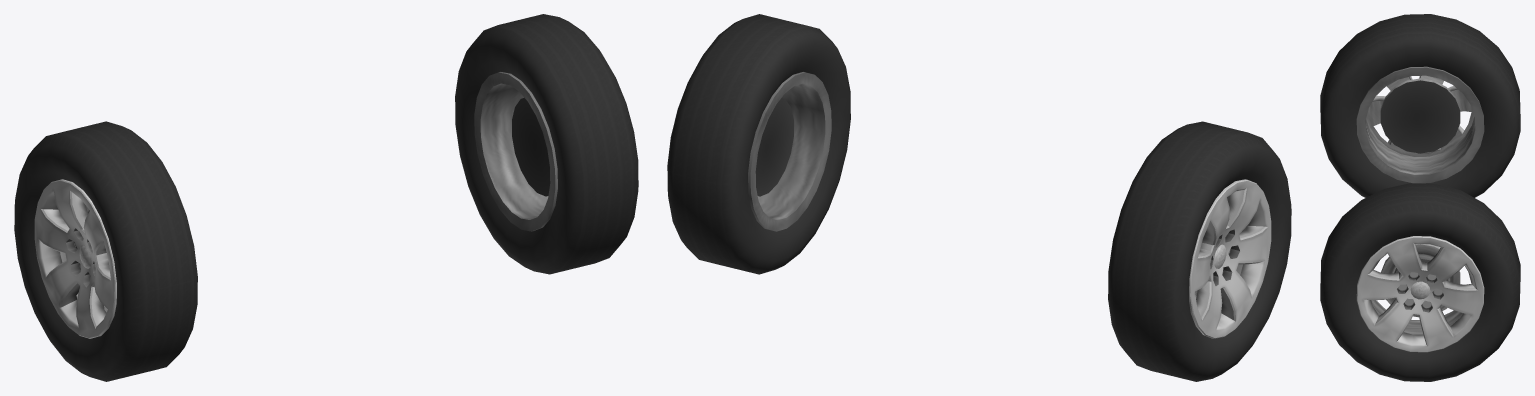
The model's file is Pickup_Llantas.obj.
The picture shows the model from 3 angles, left to right: view 1: azimuth 30°, elevation 25°; view 2: azimuth 150°, elevation 25°; view 3: azimuth 270°, elevation 25°; orthographic projection. The views are drawn at different scales.
Parts seen in each view (by area): view 1: L200-OBJ.006; view 2: L200-OBJ.006; view 3: L200-OBJ.006.
Part boxes in pixels (x1,y1,x2,y2): L200-OBJ.006: (14, 14, 638, 381); L200-OBJ.006: (667, 14, 1291, 381); L200-OBJ.006: (1320, 14, 1520, 381).
Size of the model in its own units: 32.05 by 13.72 by 13.72.
Materials: 1 (1 with a texture image).
